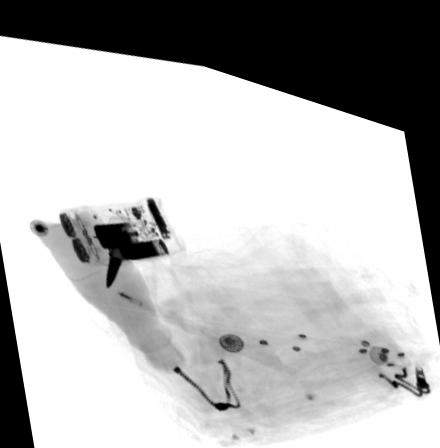Bullet: (105, 209, 128, 284)
